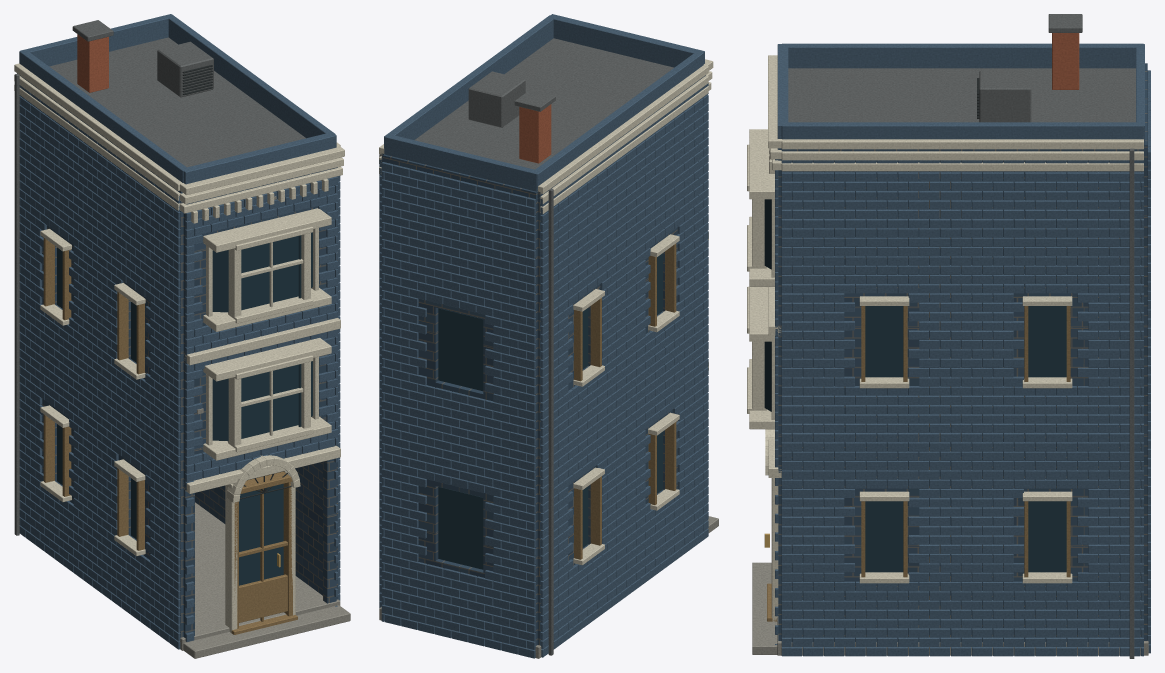
Rendered from VICT3A_lod0.glb.
3 renders of one model, left to right at view 1: azimuth 30°, elevation 25°; view 2: azimuth 150°, elevation 25°; view 3: azimuth 270°, elevation 25°, orthographic. The views are drawn at different scales.
Visible parts, largest first — view 1: VICT3A_LOD0; view 2: VICT3A_LOD0; view 3: VICT3A_LOD0.
Boxes of the visible parts, x1,y1,x2,y2 form: VICT3A_LOD0: (14,14,350,658); VICT3A_LOD0: (379,14,718,658); VICT3A_LOD0: (747,14,1150,658).
Size of the model in its own units: 3.71 by 10.45 by 6.69.
13 materials, 10 textured.
